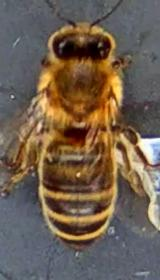varroa_mite: (58, 111, 96, 148)
